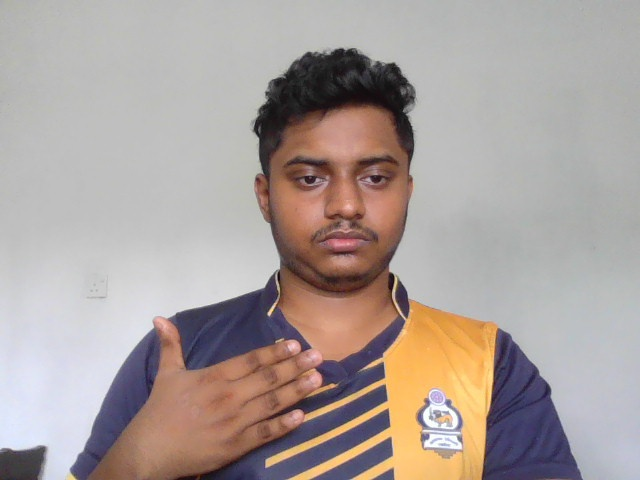Please: (151, 314, 324, 480)
